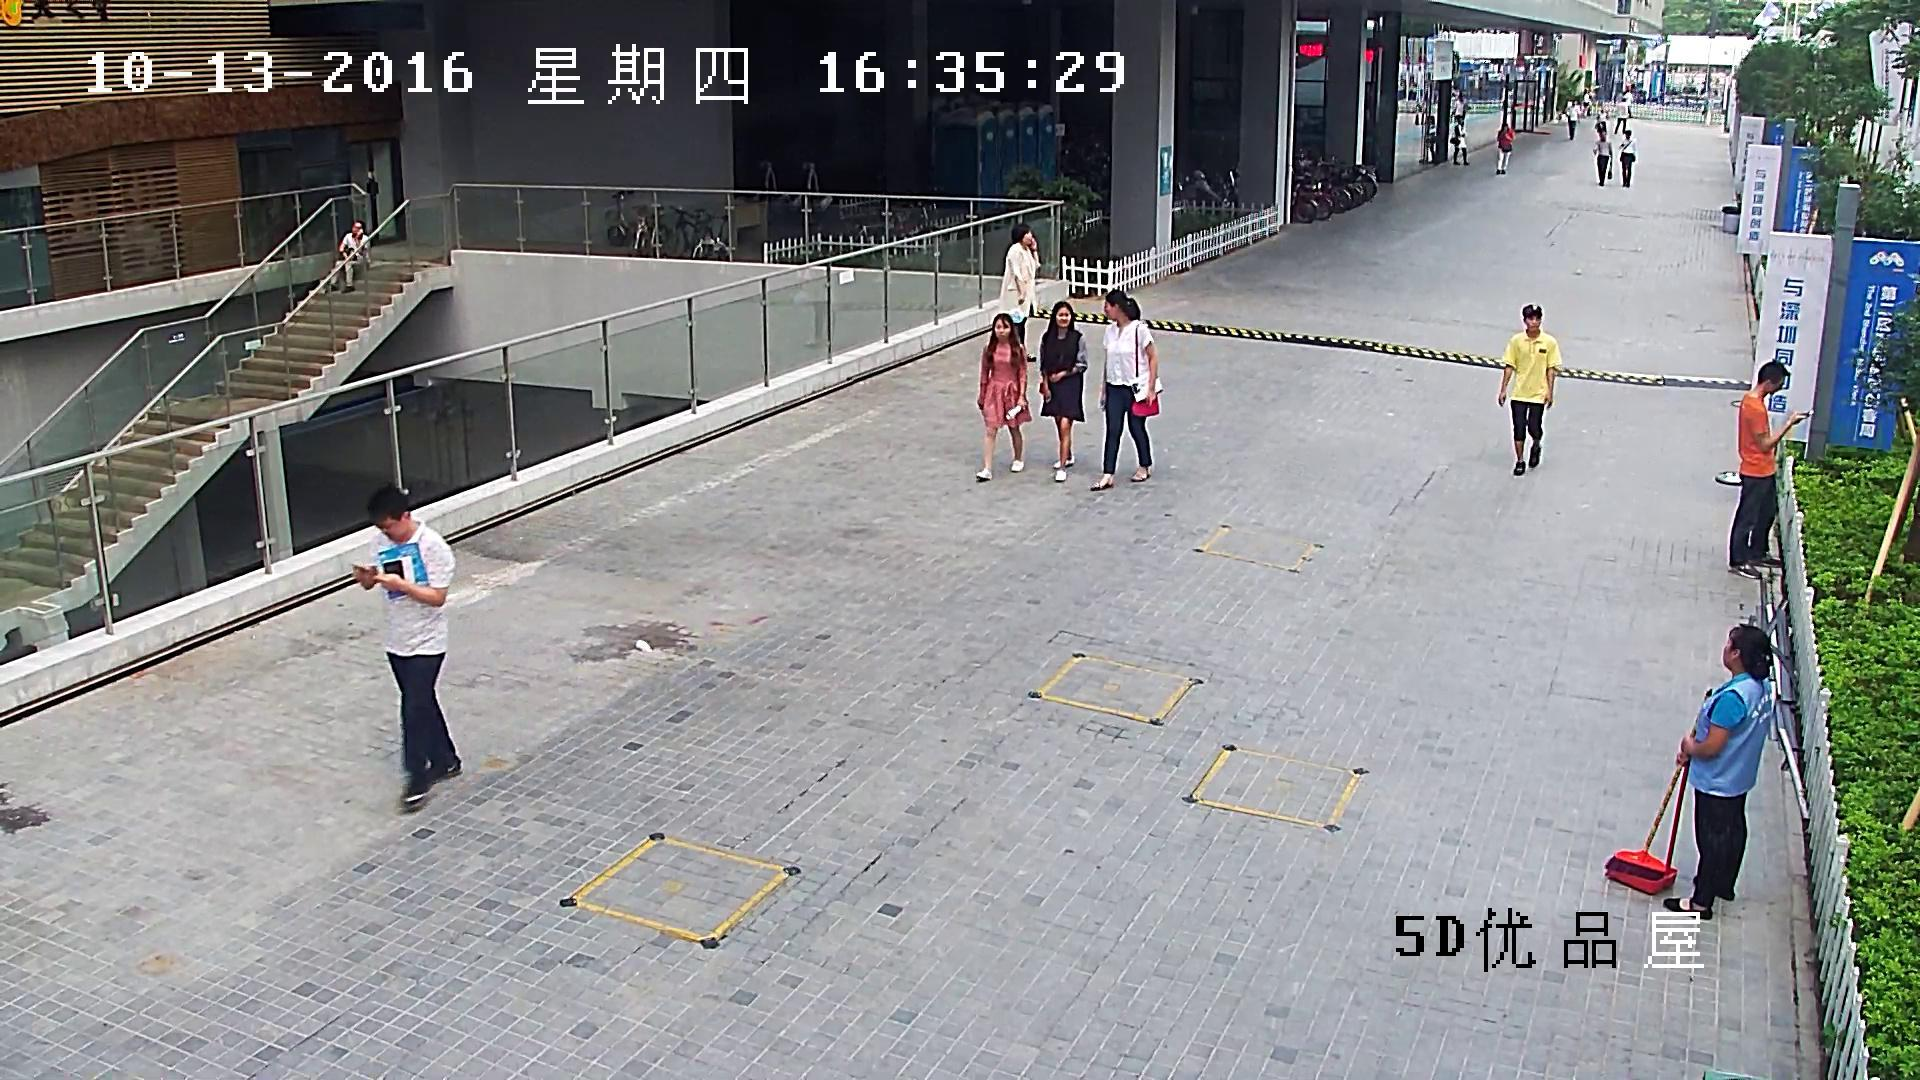person: (1603, 622, 1774, 922), (348, 483, 462, 803), (1662, 622, 1774, 921), (1728, 361, 1810, 580), (1090, 290, 1163, 491), (1498, 303, 1561, 476), (974, 313, 1032, 481), (1038, 300, 1088, 482), (997, 223, 1041, 362), (793, 267, 836, 347), (329, 220, 368, 293), (1592, 135, 1612, 186), (1619, 129, 1635, 187), (1496, 122, 1513, 175), (1450, 116, 1468, 166), (1419, 116, 1436, 164), (1565, 102, 1577, 140), (1614, 97, 1626, 134), (1595, 107, 1610, 135), (1451, 96, 1467, 115), (1581, 90, 1590, 116)
